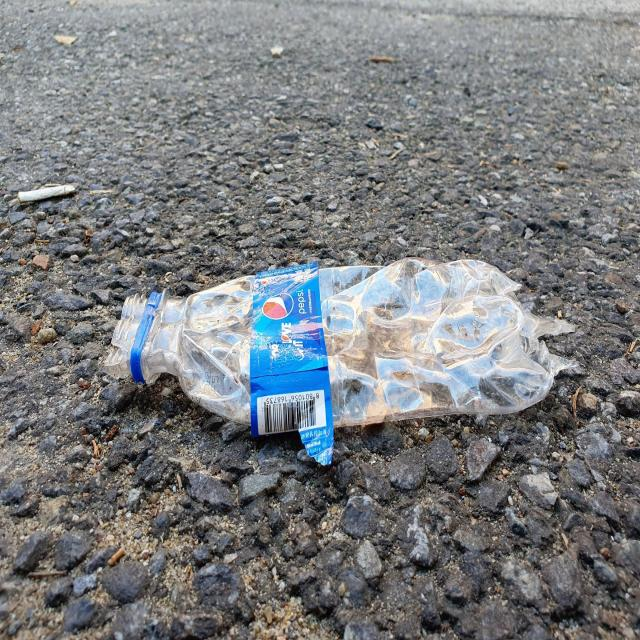plastic: (104, 258, 577, 465)
